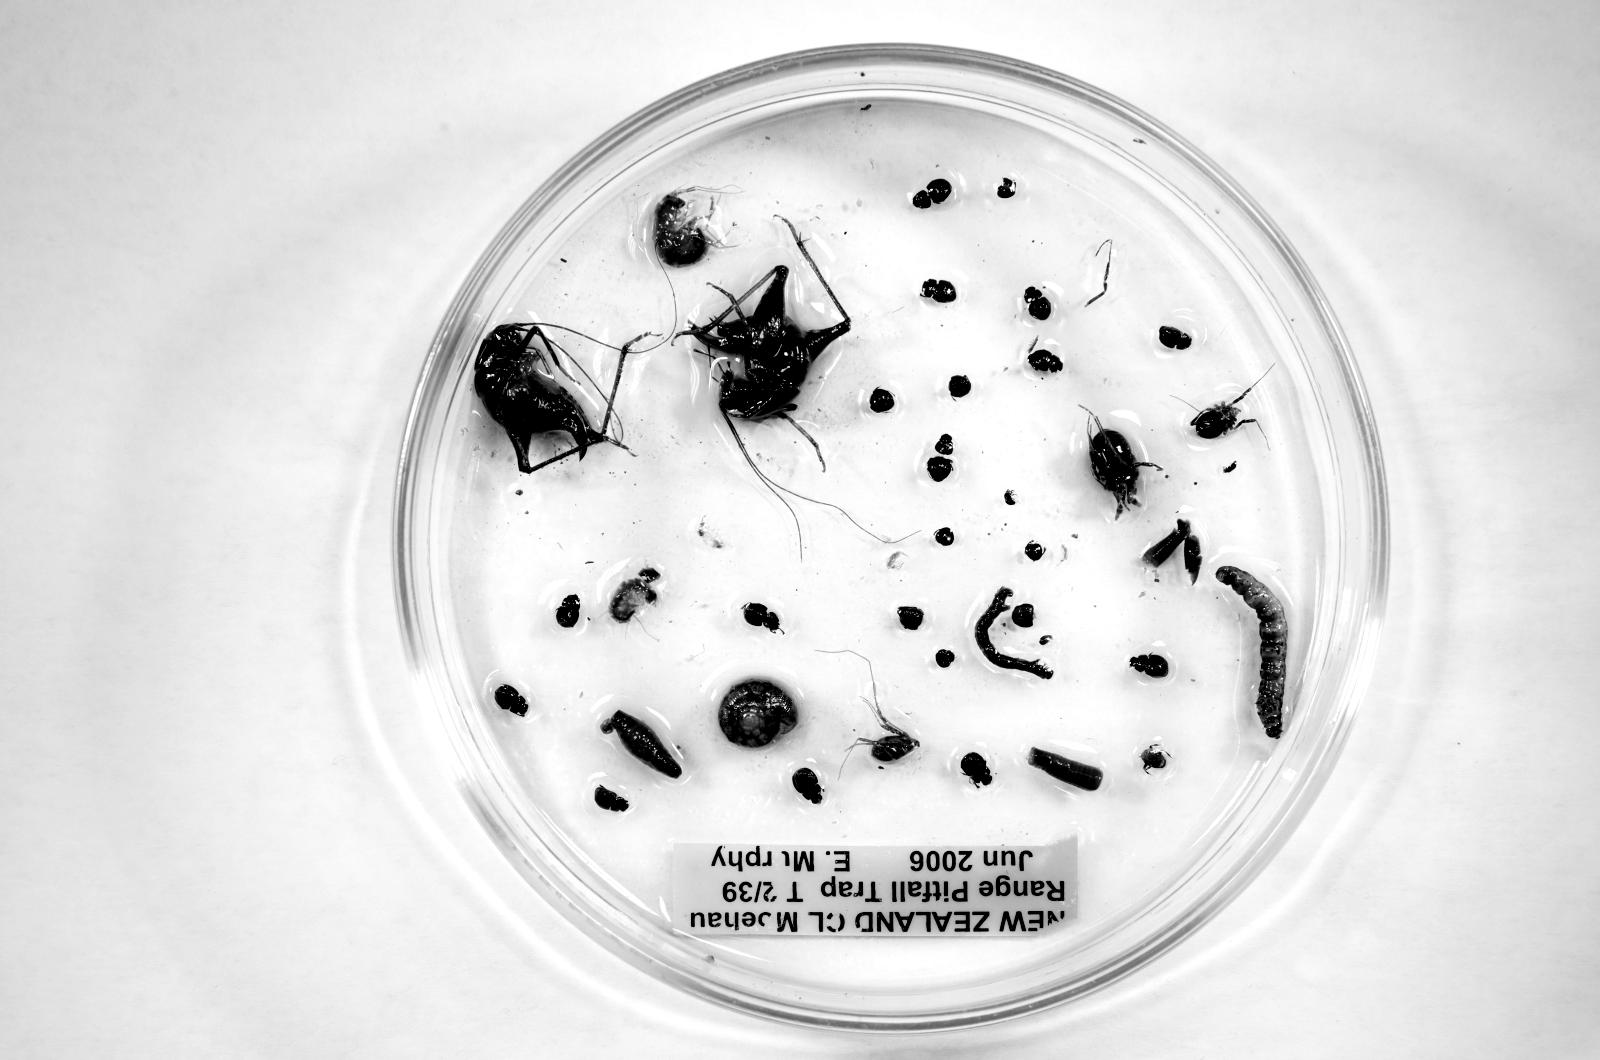amphipoda: (654, 191, 709, 267), (609, 571, 658, 623)
coleoptera: (912, 178, 953, 209), (960, 751, 992, 787), (792, 767, 823, 804), (494, 684, 528, 717), (742, 603, 780, 632), (1023, 286, 1053, 321), (594, 785, 630, 813), (1129, 653, 1169, 678), (1026, 348, 1064, 374), (921, 279, 956, 303), (1159, 326, 1191, 350)
coleoptera_larva: (1216, 566, 1287, 739), (974, 587, 1053, 679)
gastropoda: (719, 679, 798, 748)
opiliones: (1088, 410, 1161, 520), (849, 698, 920, 763), (1191, 378, 1262, 439), (555, 594, 581, 628)
orthoptera: (681, 265, 851, 476), (475, 323, 630, 474)
